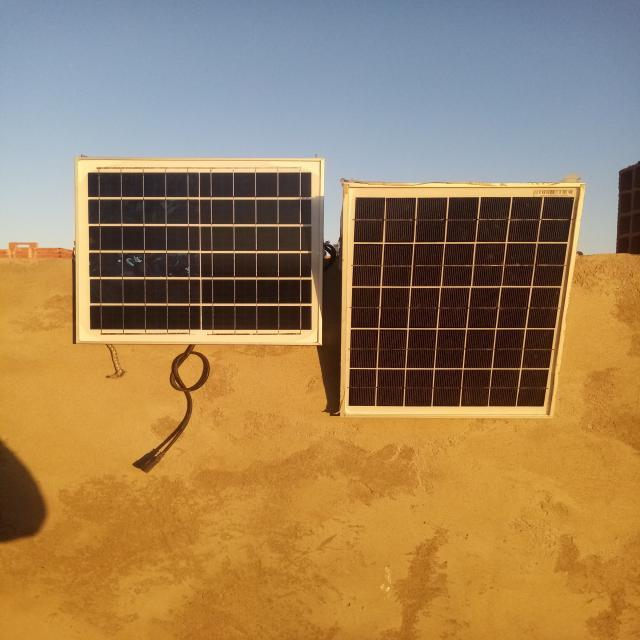no faulty: (339, 184, 585, 417), (75, 157, 324, 345)
